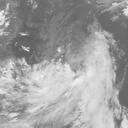cyclone: (23, 28, 117, 115)
